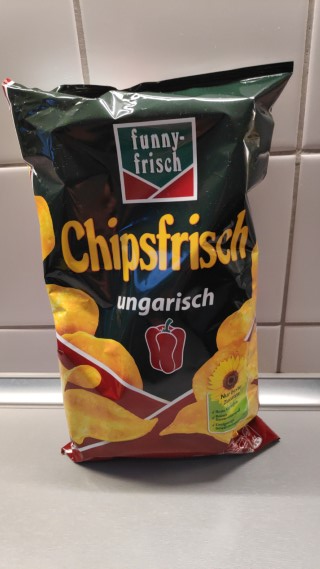chipsfrisch: (2, 59, 319, 466)
